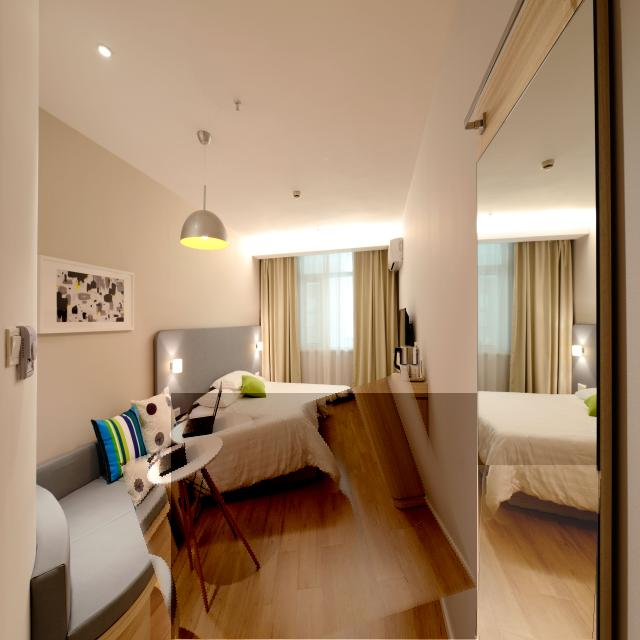floor: (172, 394, 477, 640), (478, 465, 598, 640)
